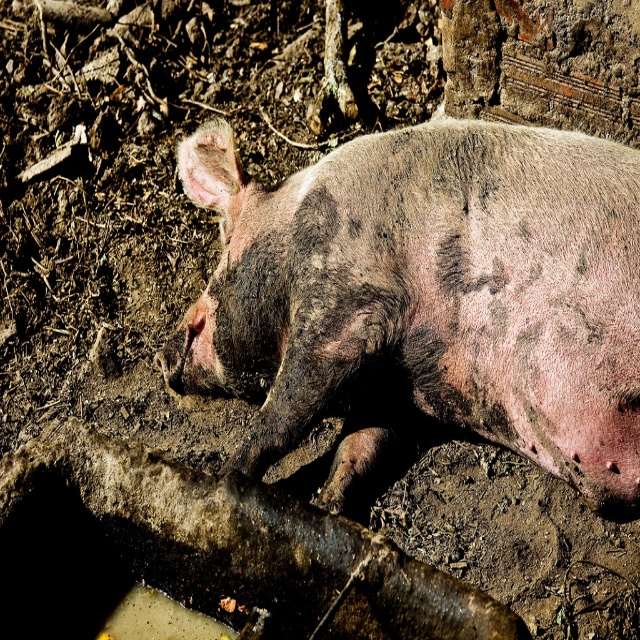Pig: (153, 117, 640, 518)
